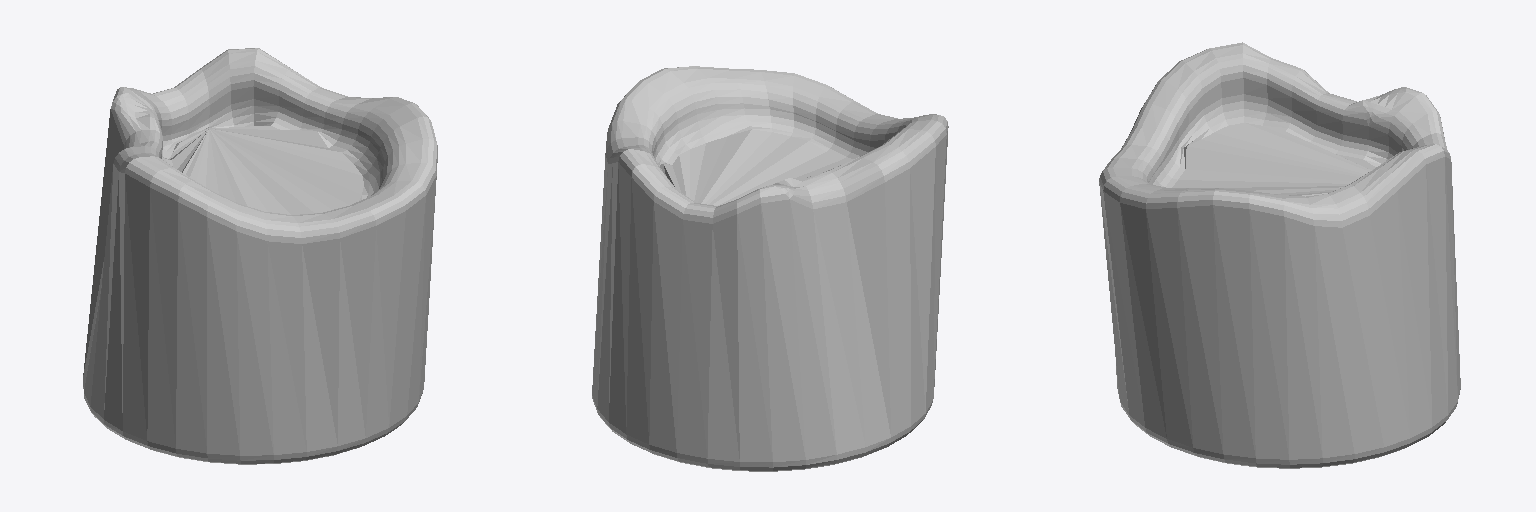
The model's file is Kerze.obj.
3 views of the same model, side by side, from view 1: azimuth 30°, elevation 25°; view 2: azimuth 150°, elevation 25°; view 3: azimuth 270°, elevation 25° (orthographic).
Parts seen in each view (by area): view 1: Kerze.001_Cylinder.005; view 2: Kerze.001_Cylinder.005; view 3: Kerze.001_Cylinder.005.
Boxes of the visible parts, box(x1,y1,x2,y2) form: Kerze.001_Cylinder.005: box(83, 48, 437, 464); Kerze.001_Cylinder.005: box(592, 66, 948, 471); Kerze.001_Cylinder.005: box(1099, 42, 1460, 468).
Size of the model in its own units: 0.1088 by 0.101 by 0.114.